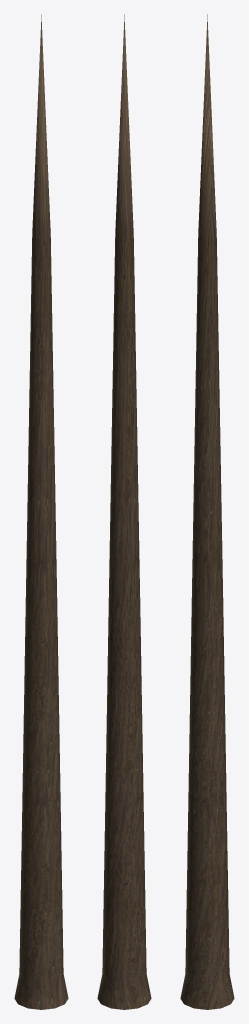
The model's file is BgMD_Tree_d.fbx.
3 renders of one model, left to right at view 1: azimuth 90°, elevation 25°; view 2: azimuth 150°, elevation 25°; view 3: azimuth 270°, elevation 25°, orthographic.
Visible parts, largest first — view 1: main_tree; view 2: main_tree; view 3: main_tree.
Part boxes in pixels (<box>): main_tree: <box>14,14,68,1009</box>; main_tree: <box>97,14,151,1009</box>; main_tree: <box>180,14,234,1009</box>.
Bounding box in the file's own units: 133 × 2671 × 133.
